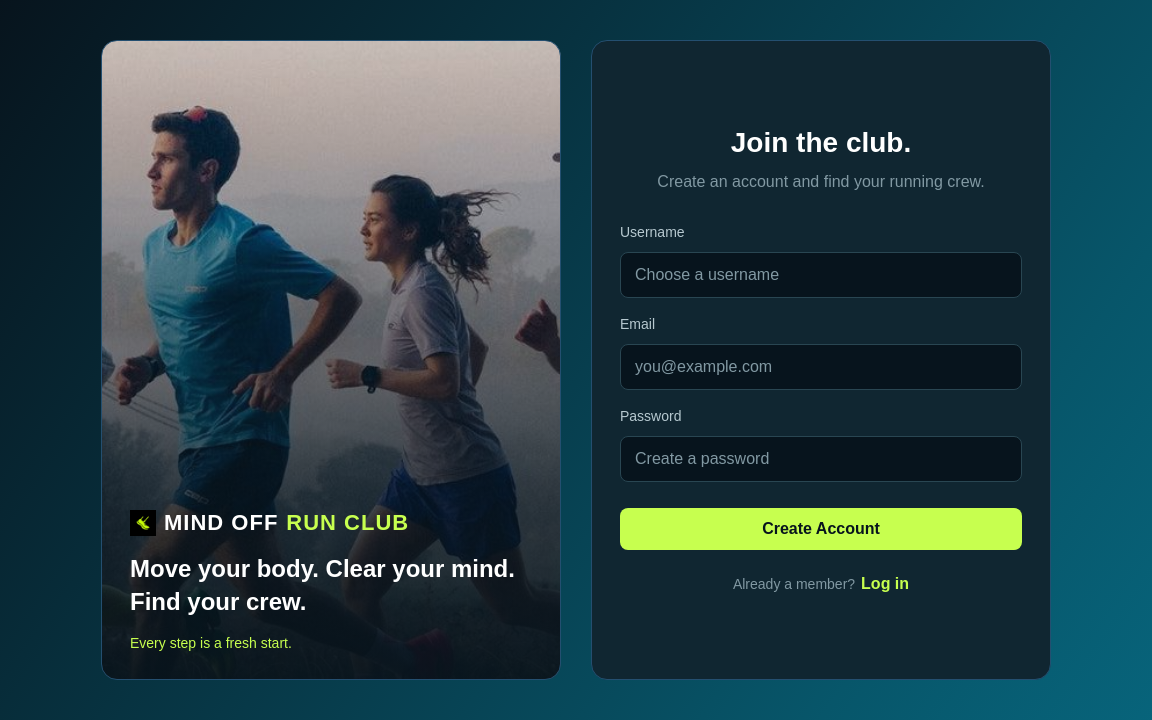
Test case: Signup component › shows an error when Supabase signup fails
The image size is (1152, 720).
In the field labelled "Username": point(821, 275) [620, 252, 1022, 298], type "runner123"
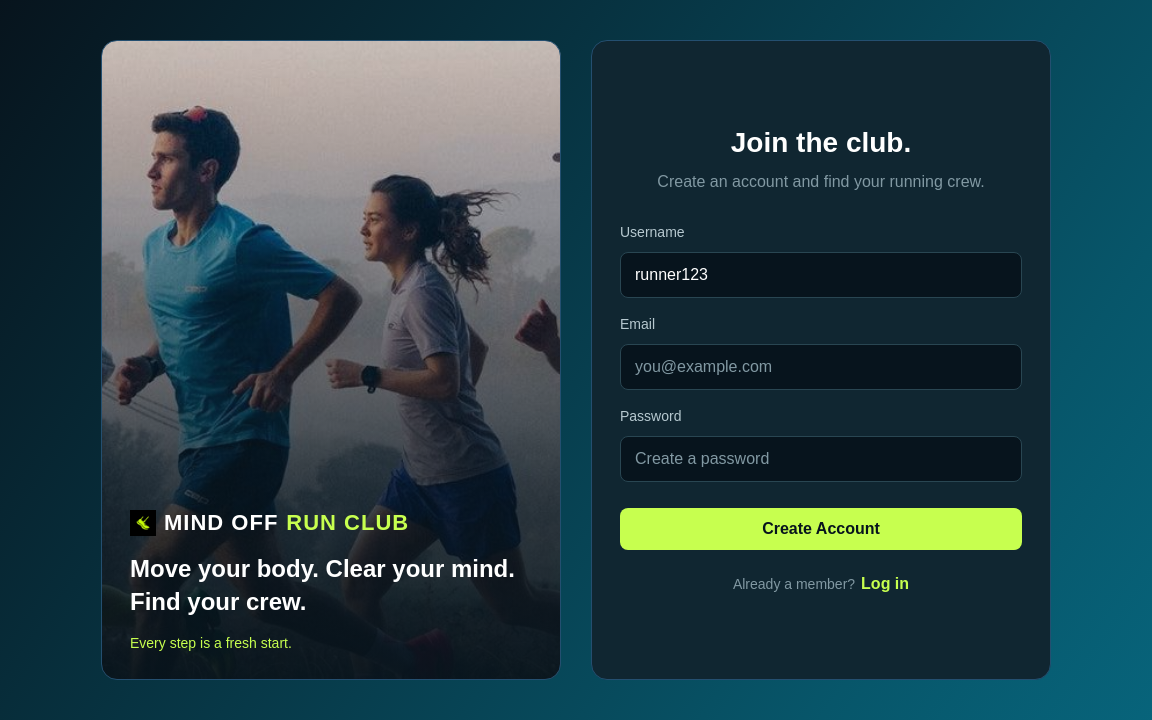
In the field labelled "Email": point(821, 367) [620, 344, 1022, 390], type "runner@example.com"
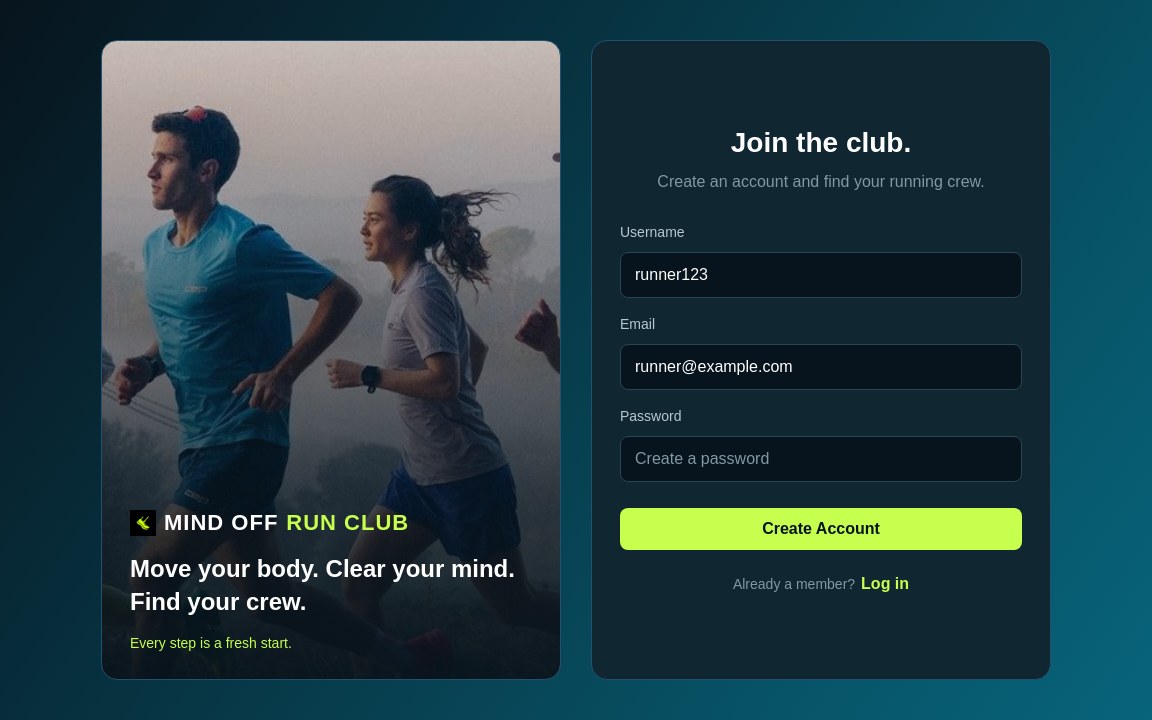
In the password field labelled "Password": point(821, 459) [620, 436, 1022, 482], type "password123"
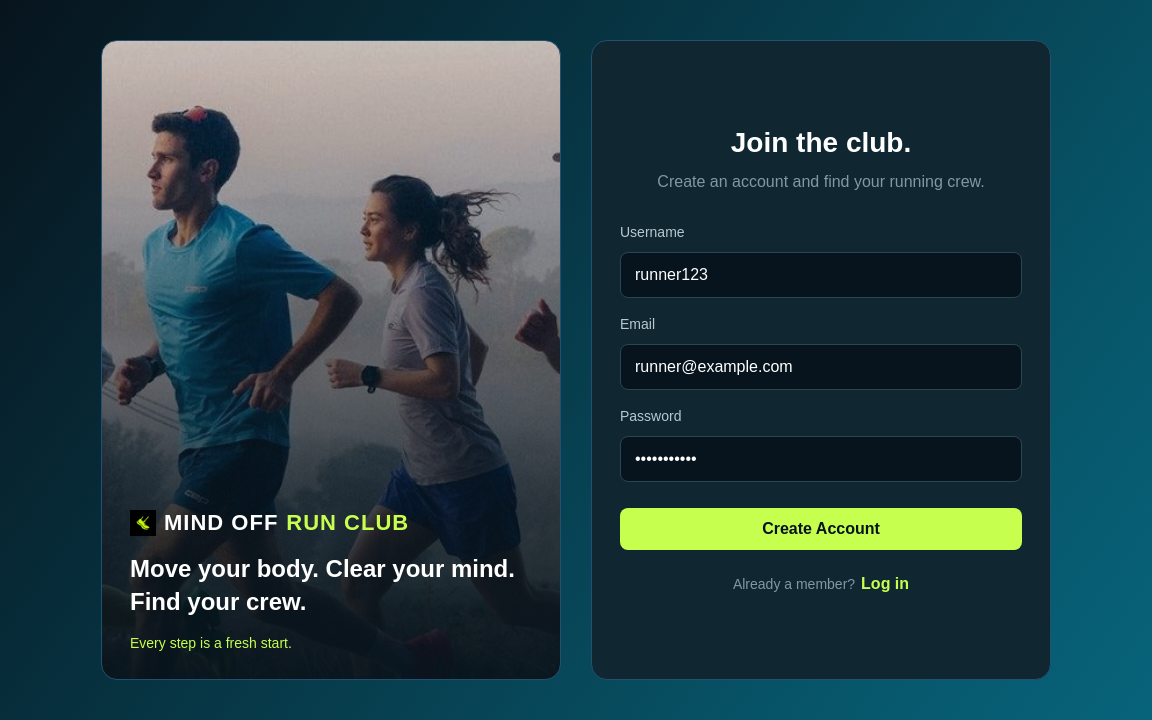
Click the button "Create Account": point(821, 529) [620, 508, 1022, 550]
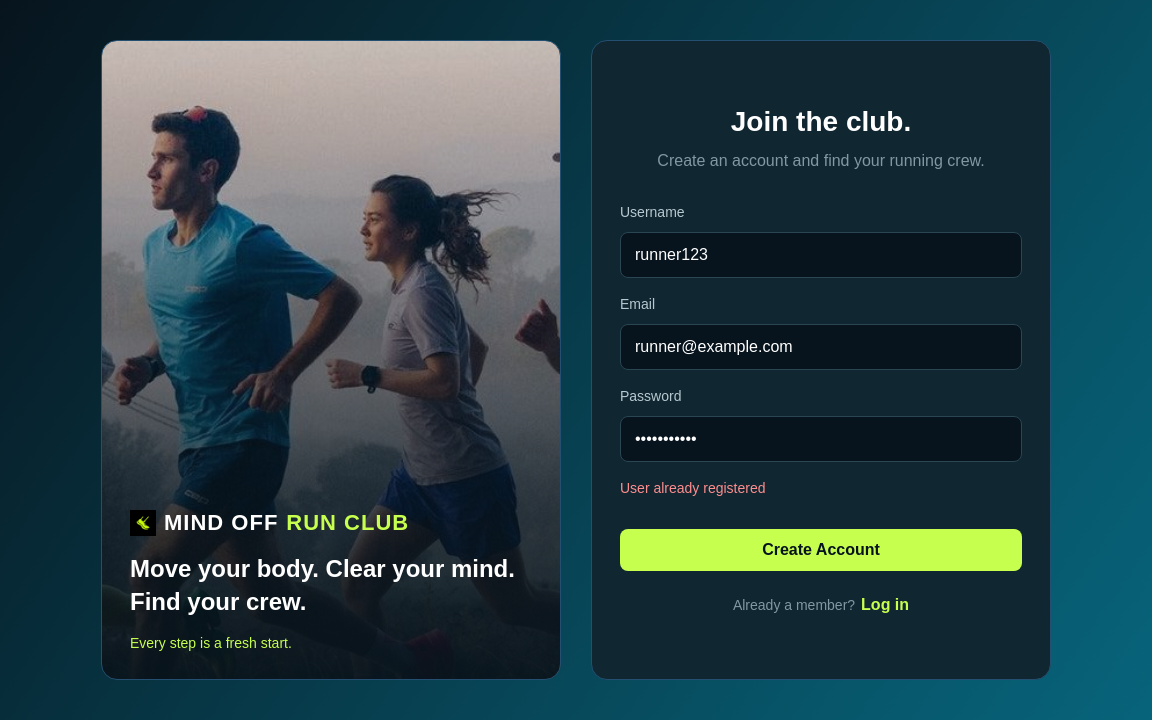
Expected: the message reads "User already registered", [620, 480, 766, 496]
